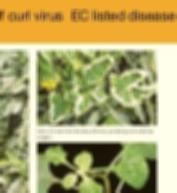Tomato leaf yellow virus: (111, 148, 156, 192), (110, 69, 154, 110), (83, 54, 117, 85), (46, 89, 74, 124), (70, 151, 97, 176), (71, 89, 95, 116)
